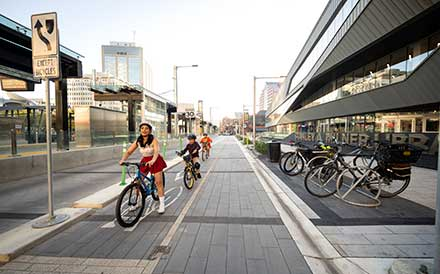Bicycle: (304, 152, 421, 206), (116, 162, 157, 229)
